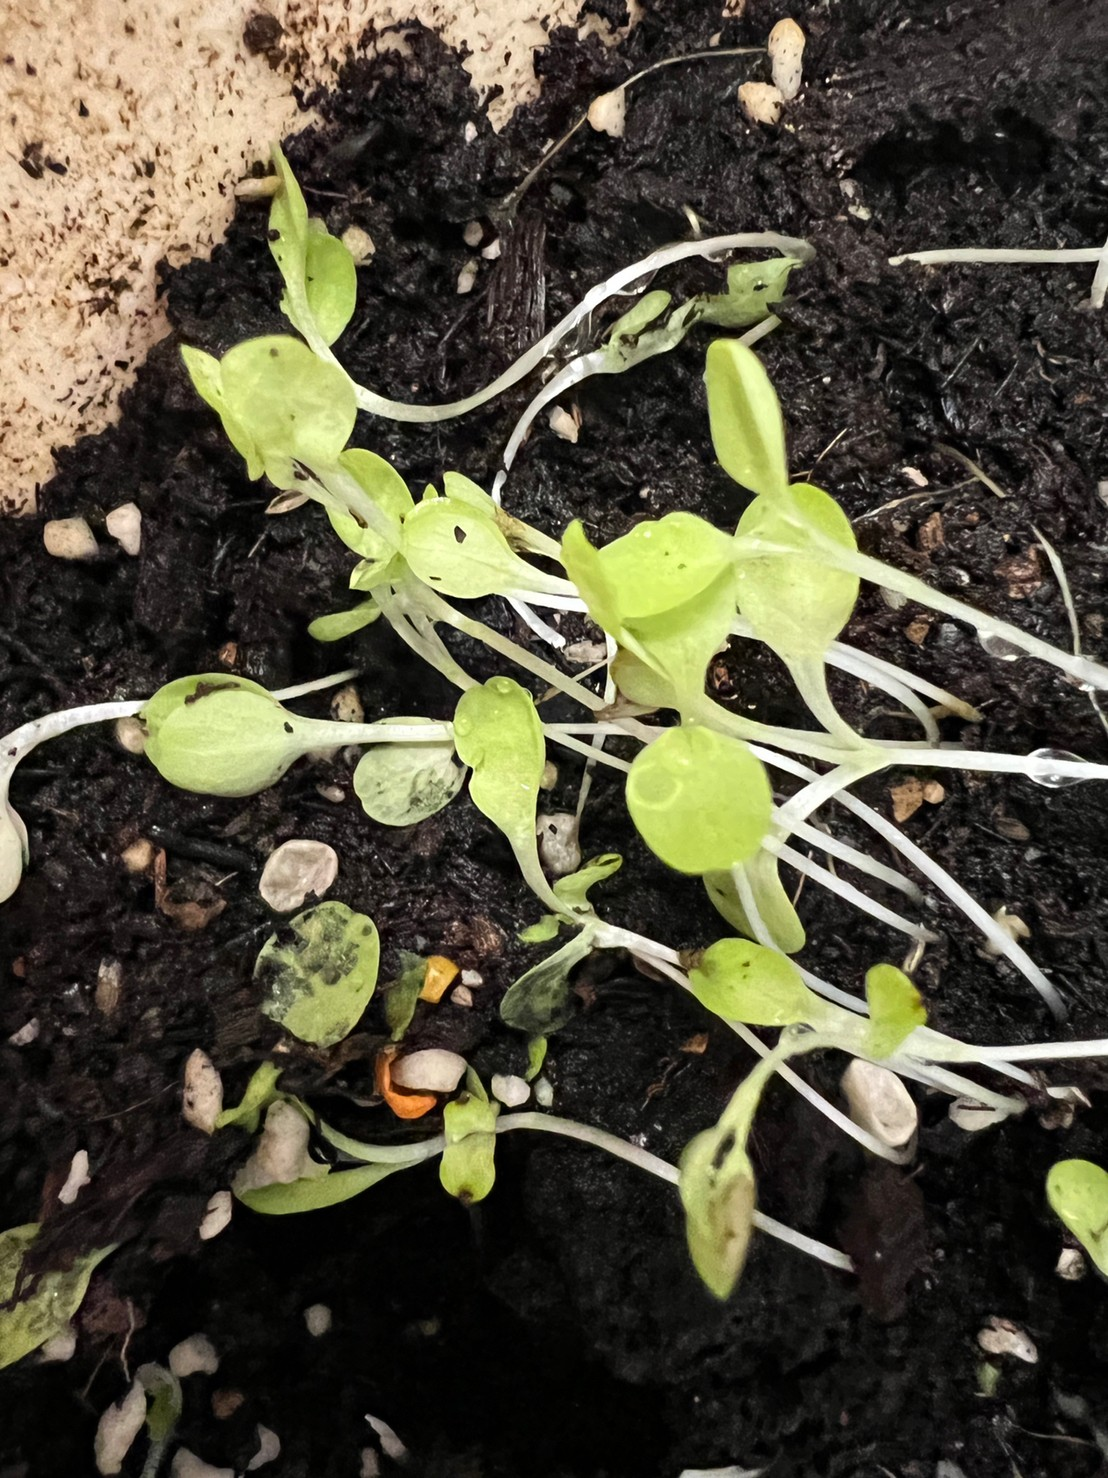week2: (98, 653, 681, 798), (382, 682, 633, 910), (594, 680, 814, 883), (608, 926, 862, 1075), (395, 493, 624, 631)
